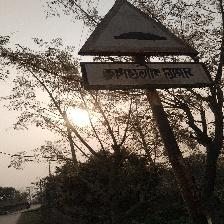Speed-breaker: (77, 0, 210, 92)
